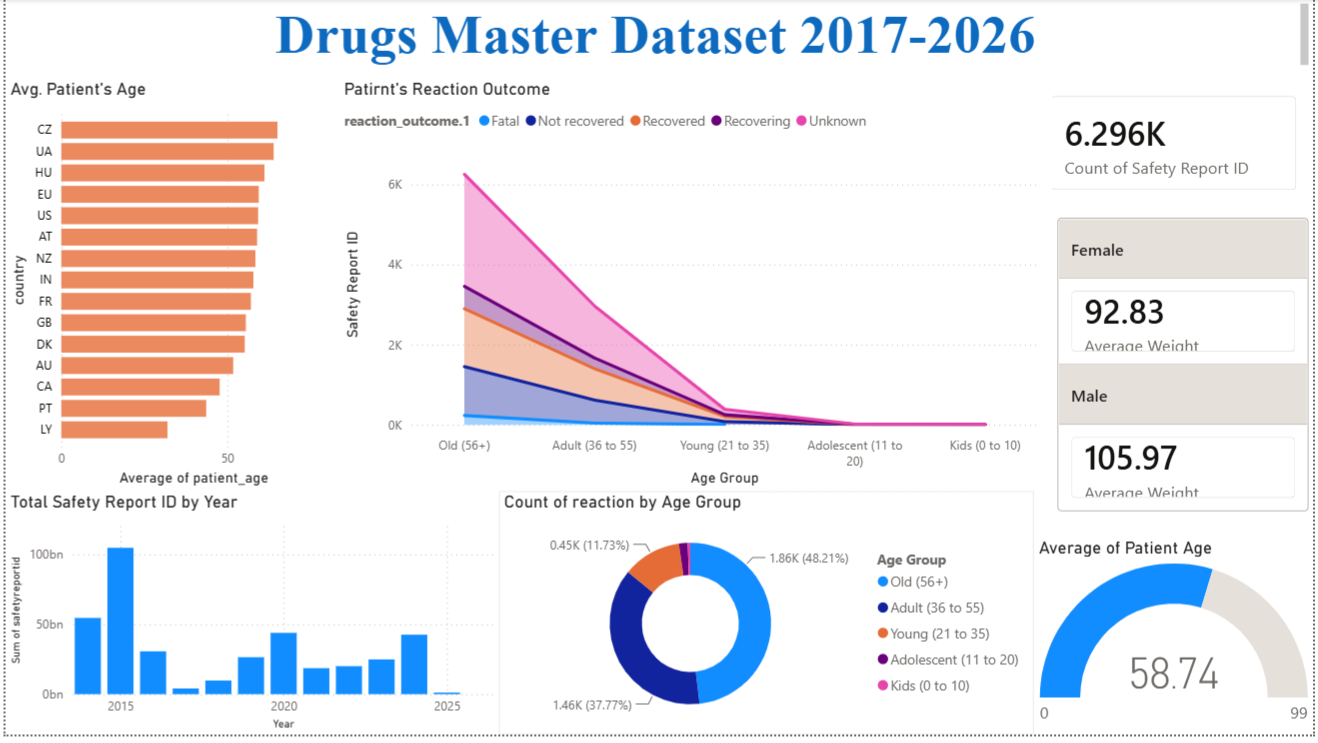

Layout of this report page (visuals, bound fields, positions):
{"tool":"powerbi","page":{"name":"Page 1","canvas":[1280,720],"ordinal":0},"visuals":[{"type":"barChart","title":"Avg. Patient''s Age ","fields":{"Y":["Avg(adverse_events.patient_age)"],"Category":["adverse_events.country"]},"box":[0,78.2,326.6,403.4],"z":0},{"type":"cardVisual","fields":{"Data":["Count(adverse_events.safetyreportid)"]},"box":[1005.8,78.2,274.4,126.2],"z":1000},{"type":"cardVisual","fields":{"Rows":["adverse_events.patient_sex"],"Data":["Avg(adverse_events.patient_weight_kg)"]},"box":[1025,189.4,255.2,337.6],"z":2000},{"type":"textbox","box":[0,0,1280.3,78.2],"z":3000},{"type":"columnChart","title":"Total Safety Report ID by Year","fields":{"Y":["Sum(adverse_events.safetyreportid)"],"Category":["adverse_events.receive_date.Variation.Date Hierarchy.Year","adverse_events.receive_date.Variation.Date Hierarchy.Quarter","adverse_events.receive_date.Variation.Date Hierarchy.Month","adverse_events.receive_date.Variation.Date Hierarchy.Day"]},"box":[0,481.6,483,238.8],"z":4000},{"type":"gauge","title":"Average of Patient Age","fields":{"Y":["Avg(adverse_events.patient_age)"],"MinValue":["Min(adverse_events.patient_age)1"],"MaxValue":["Max(adverse_events.patient_age)"]},"box":[1005.8,526.9,274.4,193.5],"z":5000},{"type":"donutChart","fields":{"Category":["adverse_events.Age Group"],"Y":["Count(adverse_events.reaction)"]},"box":[483,481.6,522.8,238.8],"z":6000},{"type":"stackedAreaChart","title":"Patirnt''s Reaction Outcome","fields":{"Category":["adverse_events.Age Group"],"Y":["Count(adverse_events.safetyreportid)"],"Series":["adverse_events.reaction_outcome.1"]},"box":[326.6,78.2,698.5,403.4],"z":7000}]}

Visuals, with their boxes in screenshot pixels (x1, y1, x2, y2), scaled from the page's 1280x720 canvas onto the 1318x743 screenshot:
"Avg. Patient''s Age " barChart: (x1=0, y1=81, x2=336, y2=497)
cardVisual - Count(adverse_events.safetyreportid): (x1=1036, y1=81, x2=1317, y2=211)
cardVisual - adverse_events.patient_sex x Avg(adverse_events.patient_weight_kg): (x1=1055, y1=195, x2=1317, y2=544)
textbox: (x1=0, y1=0, x2=1317, y2=81)
"Total Safety Report ID by Year" columnChart: (x1=0, y1=497, x2=497, y2=742)
"Average of Patient Age" gauge: (x1=1036, y1=544, x2=1317, y2=742)
donutChart - adverse_events.Age Group x Count(adverse_events.reaction): (x1=497, y1=497, x2=1036, y2=742)
"Patirnt''s Reaction Outcome" stackedAreaChart: (x1=336, y1=81, x2=1056, y2=497)
